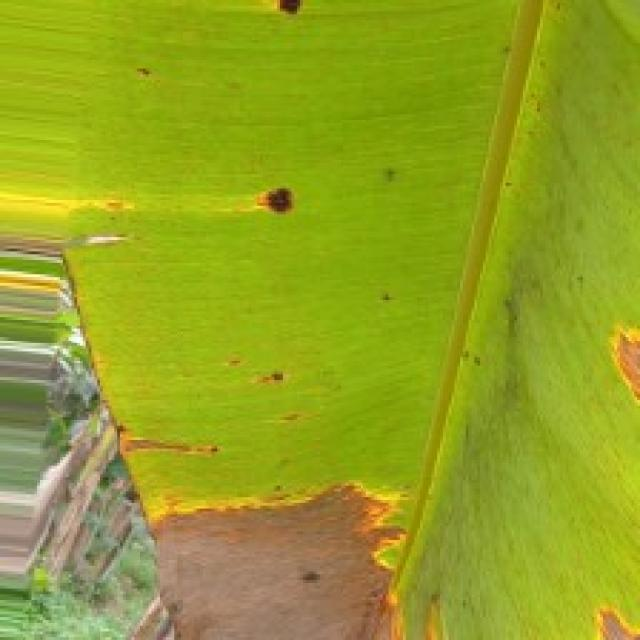Bacterial_spot: (137, 465, 452, 640), (216, 341, 308, 436), (102, 421, 248, 467), (248, 168, 308, 239), (600, 303, 640, 400), (57, 224, 145, 256), (580, 594, 640, 640), (257, 0, 323, 40), (120, 59, 167, 85)
